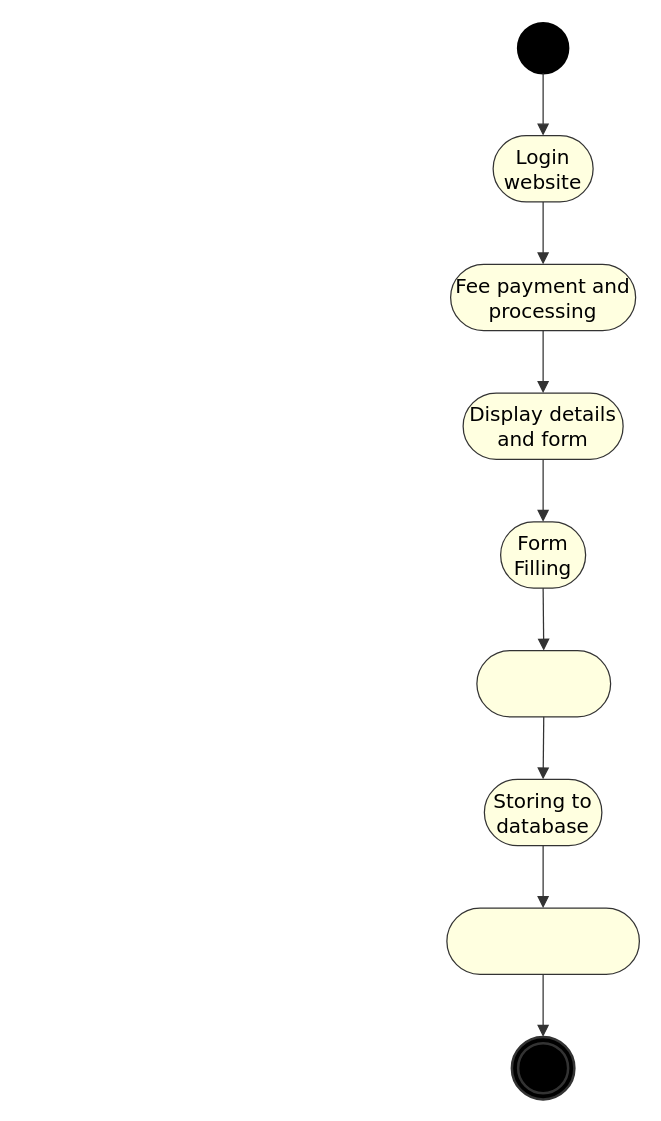
This 661x1121 diagram has some shape labels left out. The centre of each missing label's shape, as x and y in pixels:
"Form Verification" belongs at (543,683).
"Registration acknowledgement" belongs at (542,940).
